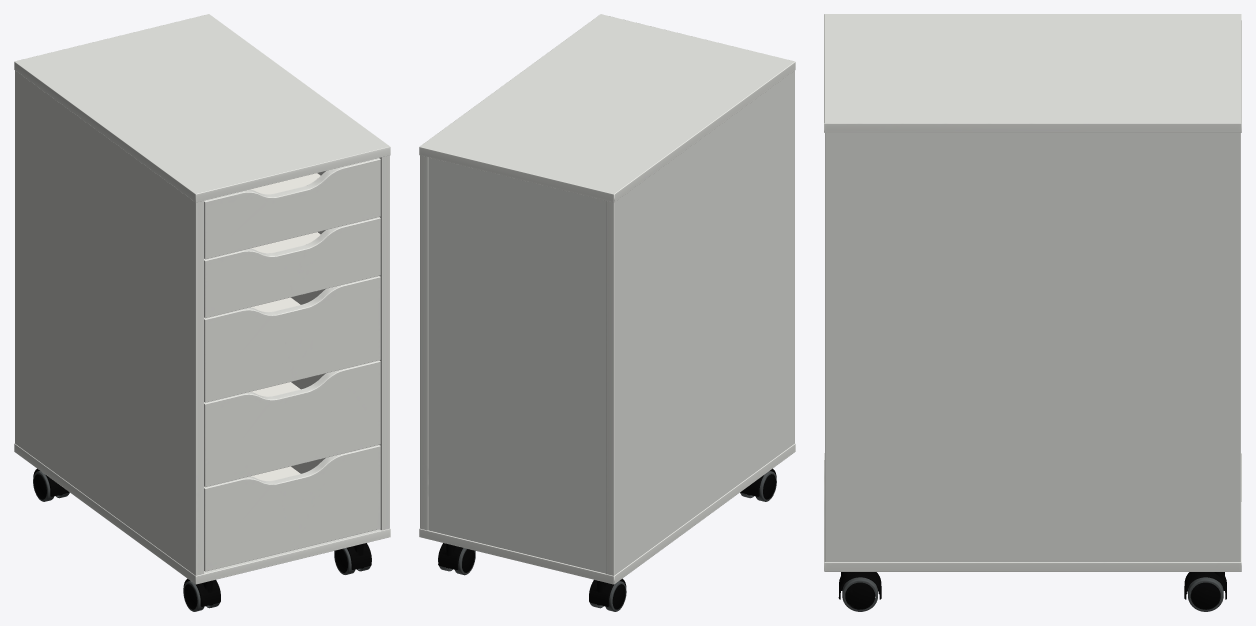
Rendered from alex_komoda_na_kokach_59422220.glb.
3 views of the same model, side by side, from view 1: azimuth 30°, elevation 25°; view 2: azimuth 150°, elevation 25°; view 3: azimuth 270°, elevation 25° (orthographic). The views are drawn at different scales.
Visible parts, largest first — view 1: alex_komoda_na_kokach_59422220; view 2: alex_komoda_na_kokach_59422220; view 3: alex_komoda_na_kokach_59422220.
Part boxes in pixels (bbox=[...]): alex_komoda_na_kokach_59422220: bbox=[14, 14, 390, 611]; alex_komoda_na_kokach_59422220: bbox=[419, 14, 795, 611]; alex_komoda_na_kokach_59422220: bbox=[824, 14, 1241, 611].
Size of the model in its own units: 0.361 by 0.7614 by 0.582.
1 material, 1 textured.
